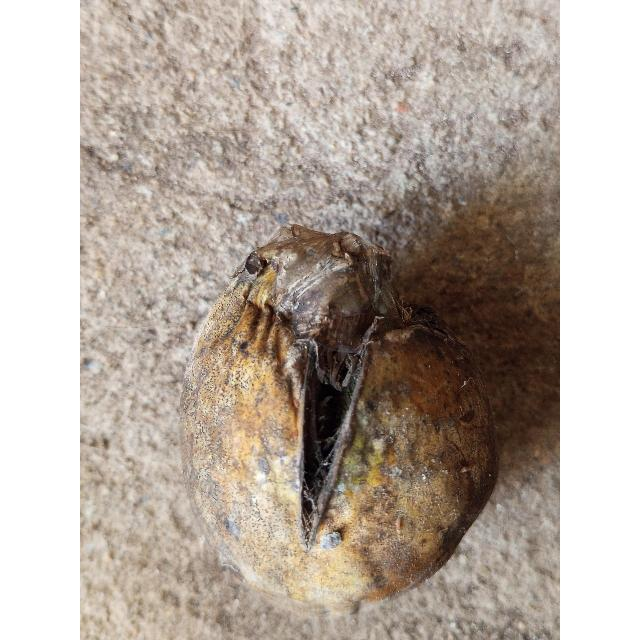damaged: (181, 225, 498, 603)
